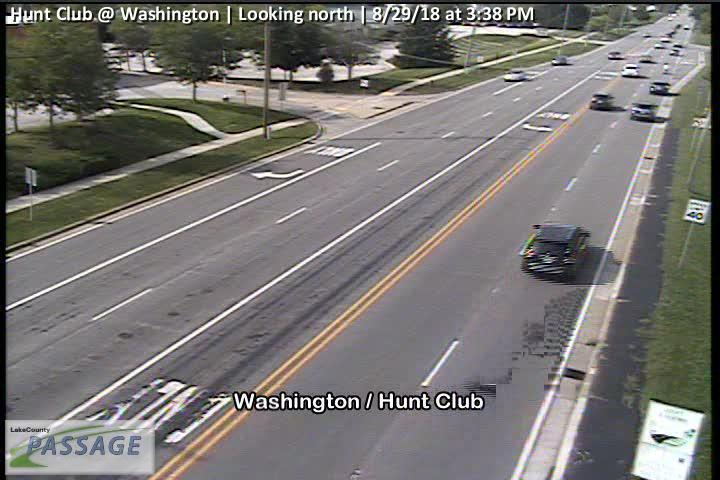SUV: (522, 223, 591, 280)
Sedan: (631, 102, 657, 120), (591, 93, 611, 110), (502, 68, 525, 82), (650, 81, 670, 94), (621, 63, 638, 76), (551, 55, 568, 64), (608, 51, 624, 59)
